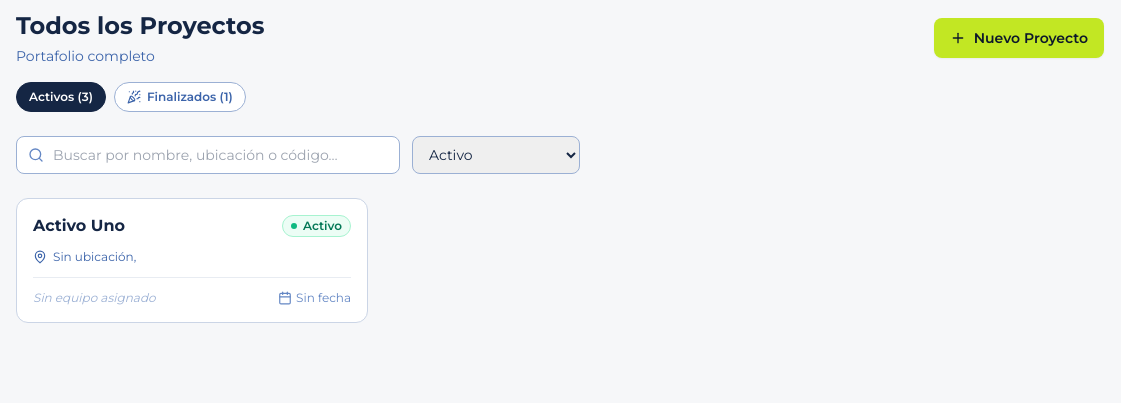
Test: lo que la búsqueda encuentra pero el filtro esconde › si el filtro esconde lo que se buscó, lo dice y deja verlo
Type "pausado" into the field with placeholder "Buscar por nombre, ubicación o código…" at (208, 155), box [16,136,400,174]
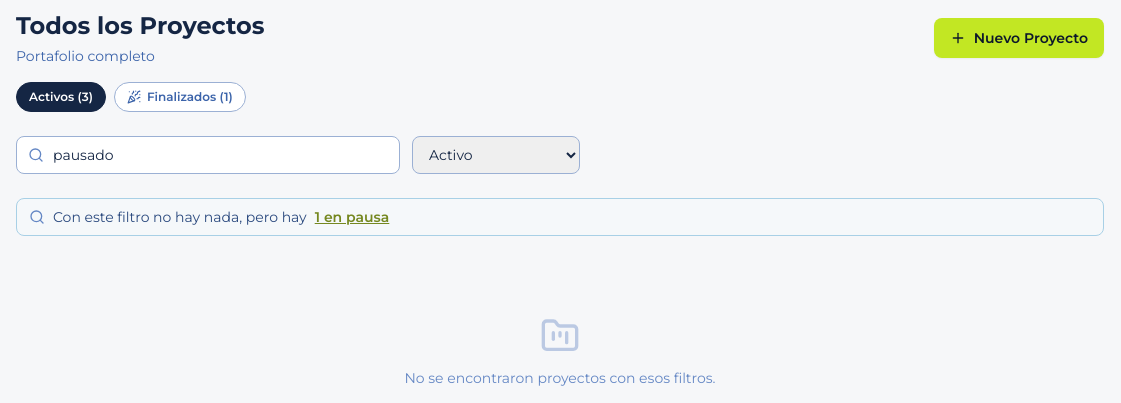
Check: the text "Con este filtro no hay nada, pero hay 1 en pausa" is shown, box [16,198,1104,236]
Click the button "1 en pausa" at (352, 217), box [315,207,389,227]
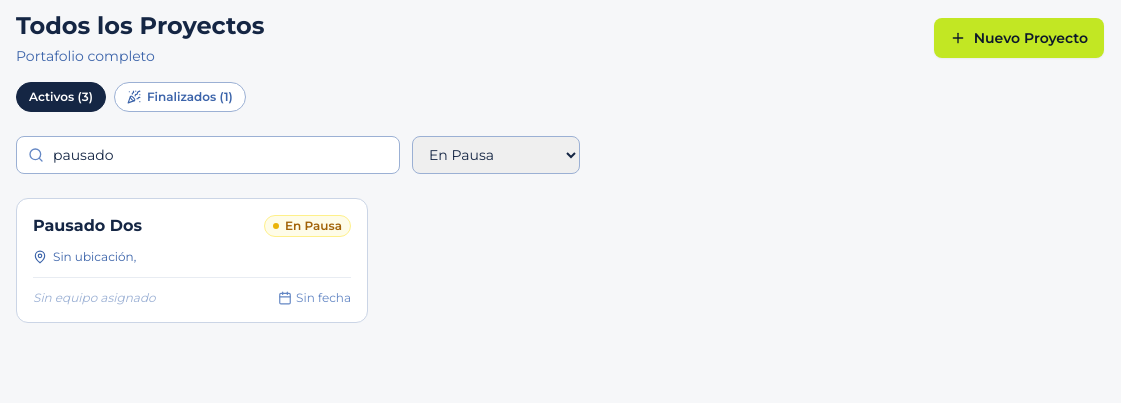
Check: the heading "Pausado Dos" is shown, box [33,215,142,237]
